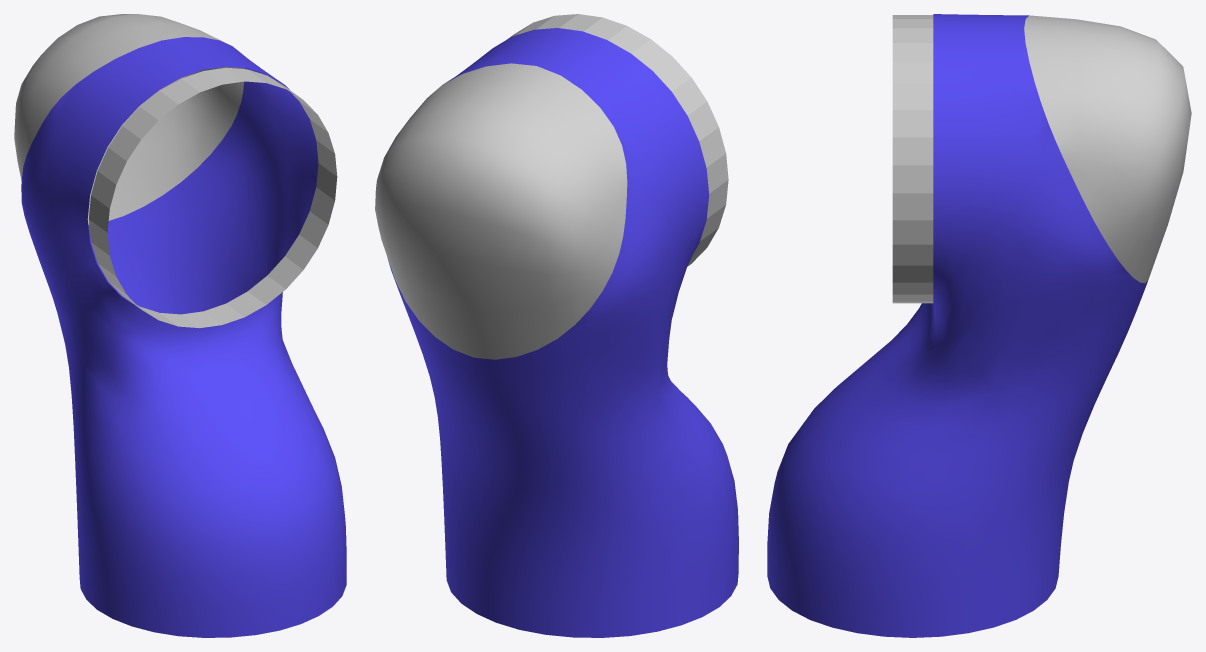
Rendered from arm_seg_1.dae.
The picture shows the model from 3 angles, left to right: view 1: azimuth 30°, elevation 25°; view 2: azimuth 150°, elevation 25°; view 3: azimuth 270°, elevation 25°; orthographic projection. The views are drawn at different scales.
Parts seen in each view (by area): view 1: arm_seg_1; view 2: arm_seg_1; view 3: arm_seg_1.
Part boxes in pixels (bbox=[...]): arm_seg_1: bbox=[14, 14, 346, 637]; arm_seg_1: bbox=[375, 14, 738, 637]; arm_seg_1: bbox=[767, 14, 1191, 637].
Size of the model in its own units: 0.124 by 0.1765 by 0.2521.
